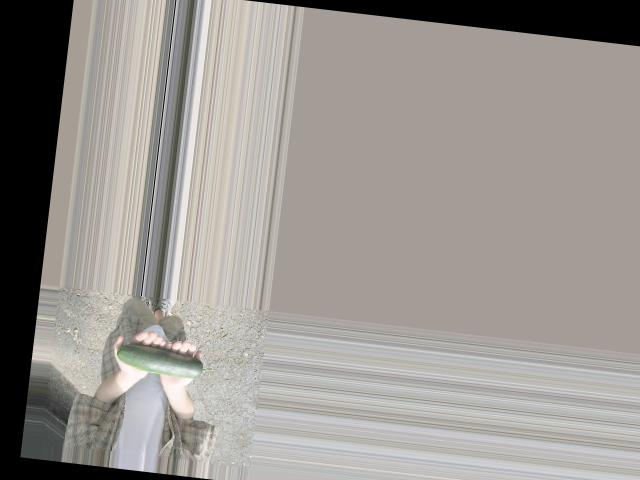cucumber: (116, 341, 215, 380)
